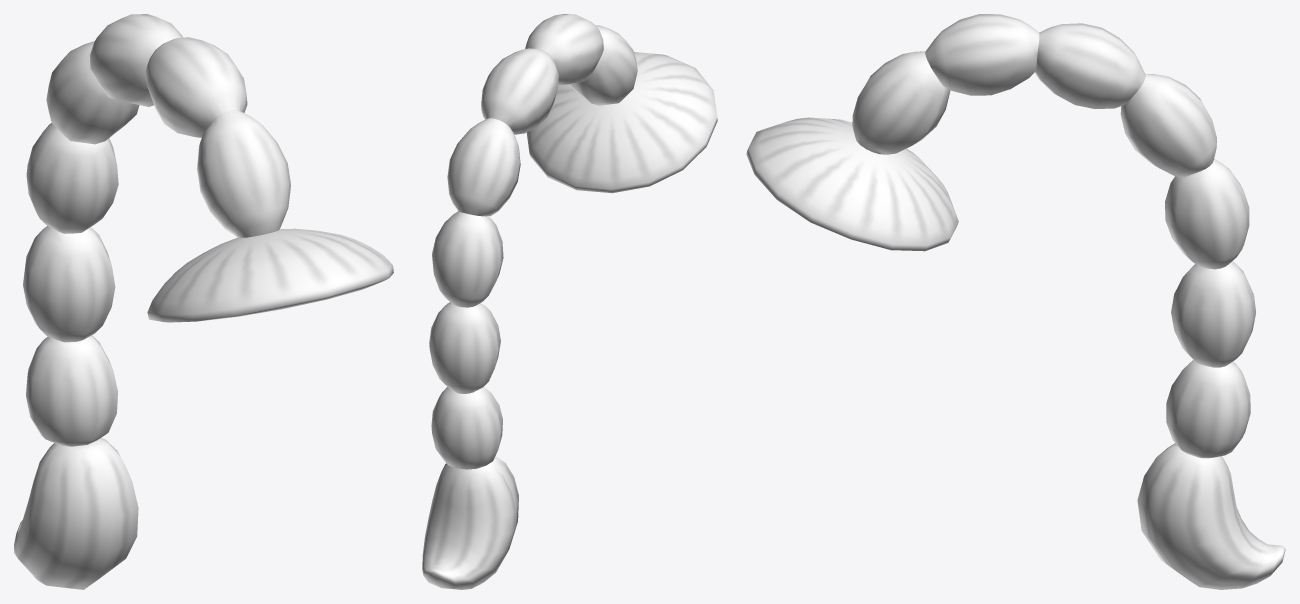
The model's file is CapWigPigtail.glb.
3 renders of one model, left to right at view 1: azimuth 30°, elevation 25°; view 2: azimuth 150°, elevation 25°; view 3: azimuth 270°, elevation 25°, orthographic. The views are drawn at different scales.
Parts seen in each view (by area): view 1: Body__mCapHair; view 2: Body__mCapHair; view 3: Body__mCapHair.
Boxes of the visible parts, x1,y1,x2,y2 form: Body__mCapHair: (14, 14, 393, 589); Body__mCapHair: (422, 14, 717, 589); Body__mCapHair: (746, 14, 1285, 589).
Size of the model in its own units: 2.77 by 7.68 by 6.63.
Materials: 1 (1 with a texture image).
